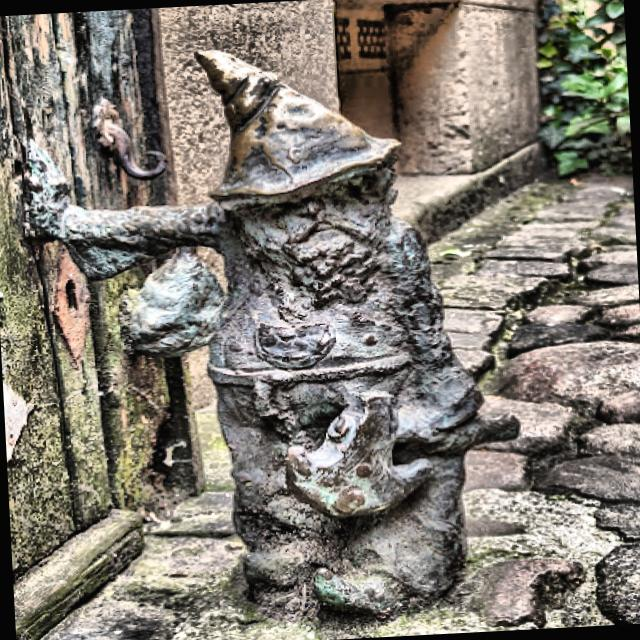Rzeznik: (28, 53, 517, 614)
